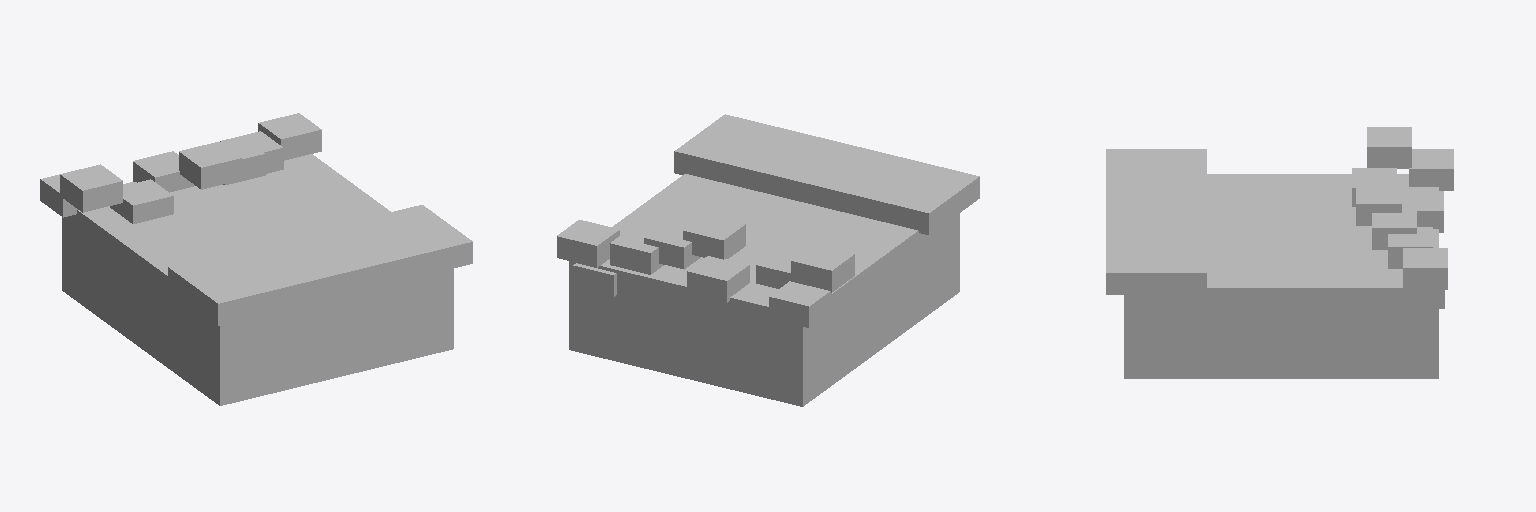
Rendered from platform1.obj.
3 views of the same model, side by side, from view 1: azimuth 30°, elevation 25°; view 2: azimuth 150°, elevation 25°; view 3: azimuth 270°, elevation 25° (orthographic).
Parts seen in each view (by area): view 1: Cube; view 2: Cube; view 3: Cube.
Boxes of the visible parts, x1=… form: Cube: x1=40, y1=113, x2=472, y2=405; Cube: x1=557, y1=114, x2=979, y2=406; Cube: x1=1106, y1=127, x2=1453, y2=378.
Size of the model in its own units: 5.93 by 2.84 by 6.88.